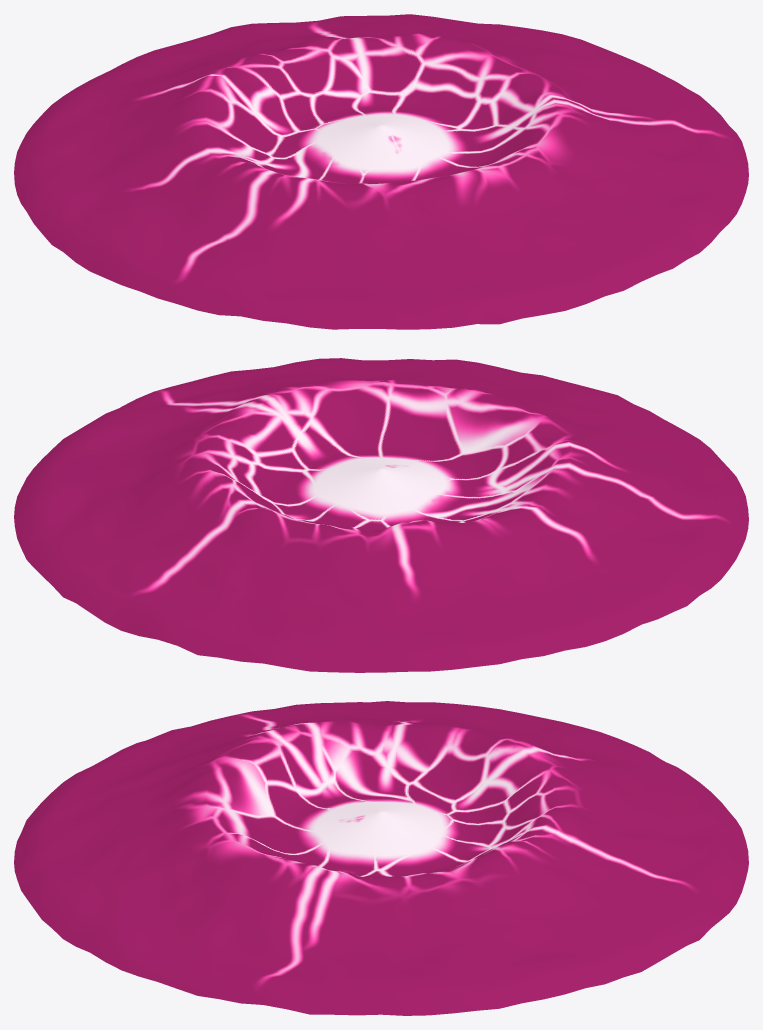
Rendered from magma_rose.glb.
The picture shows the model from 3 angles, top to bottom: view 1: azimuth 30°, elevation 25°; view 2: azimuth 150°, elevation 25°; view 3: azimuth 270°, elevation 25°; orthographic projection.
Parts seen in each view (by area): view 1: magma; view 2: magma; view 3: magma.
Boxes of the visible parts, bbox=[...] form: magma: bbox=[14, 14, 748, 329]; magma: bbox=[14, 358, 748, 672]; magma: bbox=[14, 701, 748, 1015].
Bounding box in the file's own units: 4 × 0.4326 × 4.
1 material, 1 textured.
